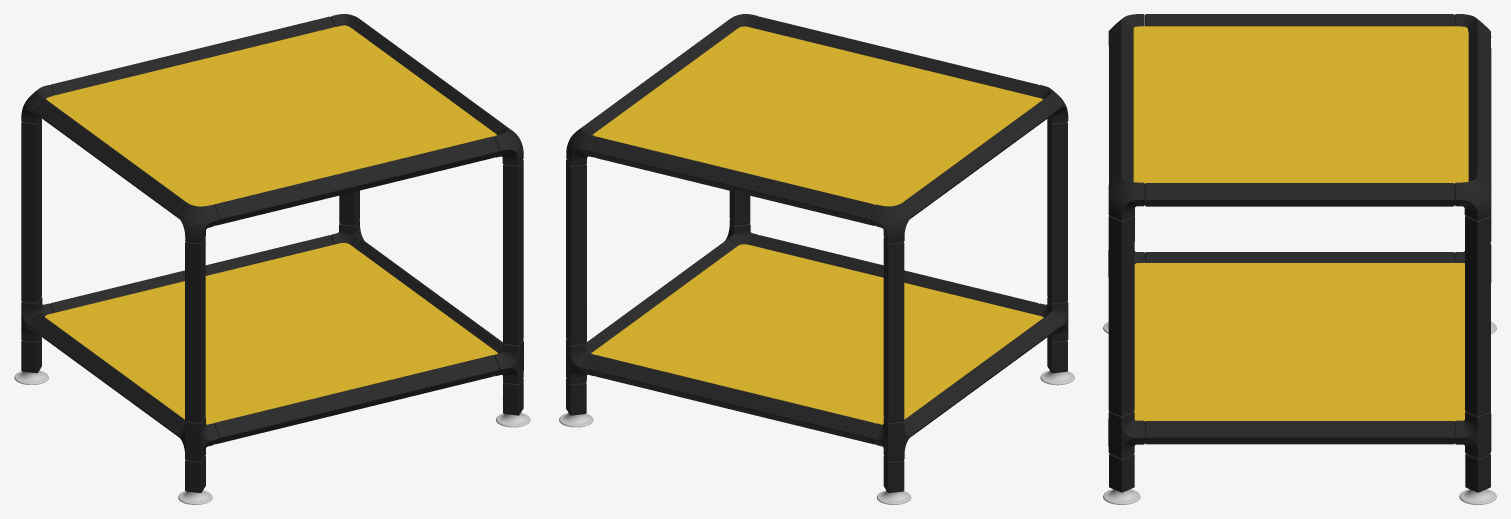
3 views of the same model, side by side, from view 1: azimuth 30°, elevation 25°; view 2: azimuth 150°, elevation 25°; view 3: azimuth 270°, elevation 25° (orthographic). The views are drawn at different scales.
Parts seen in each view (by area): view 1: 374x329x229; view 2: 374x329x229; view 3: 374x329x229.
Part boxes in pixels (x1,y1,x2,y2): 374x329x229: [14, 14, 530, 504]; 374x329x229: [559, 14, 1074, 504]; 374x329x229: [1103, 14, 1496, 504].
Size of the model in its own units: 0.4639 by 0.3683 by 0.4182.
